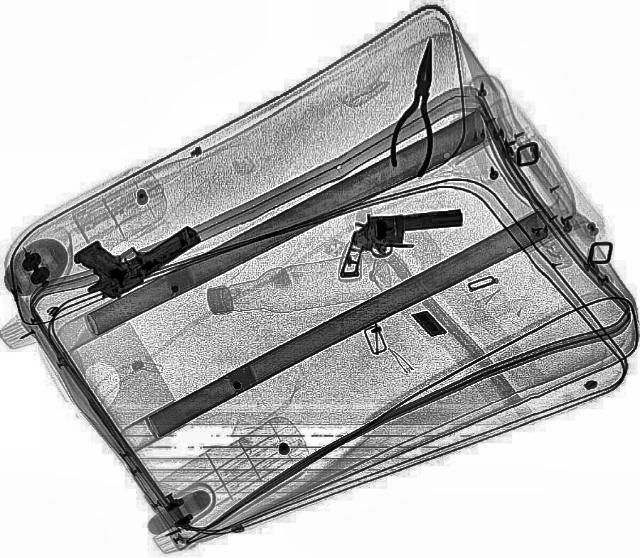Gun: (57, 197, 205, 307), (334, 206, 468, 278)
Pliers: (386, 36, 446, 178)
